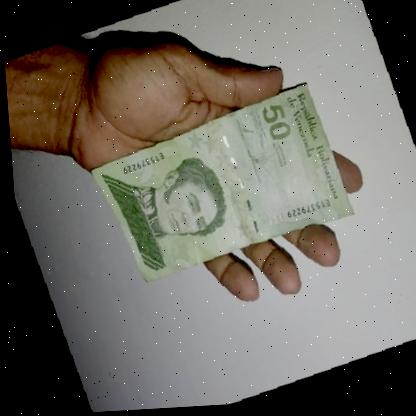fifty-front-vef: (79, 84, 355, 293)
